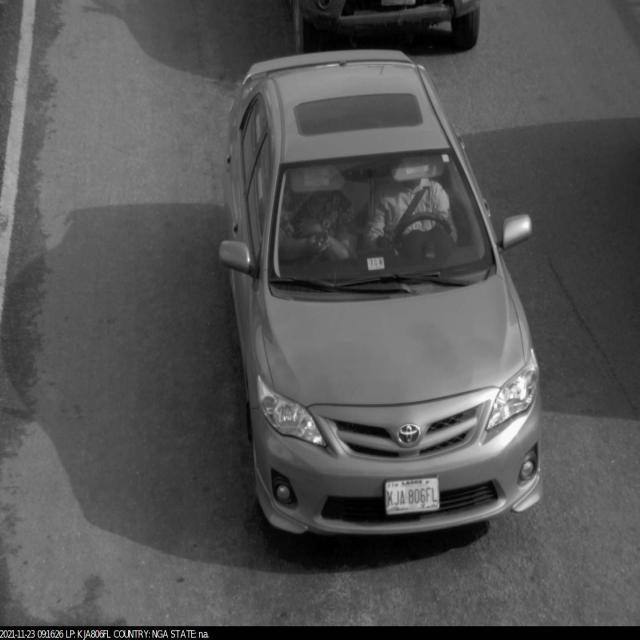windshield: (266, 147, 502, 303)
